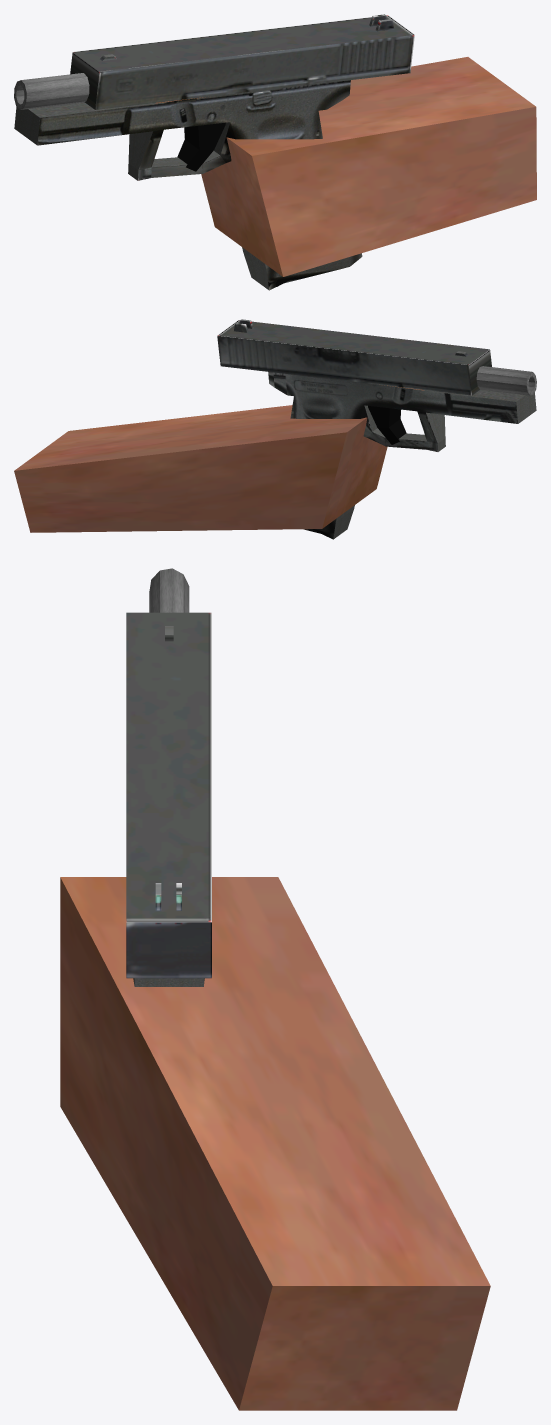
Rendered from pistol_000008.obj.
3 renders of one model, top to bottom at view 1: azimuth 30°, elevation 25°; view 2: azimuth 150°, elevation 25°; view 3: azimuth 270°, elevation 25°, orthographic. The views are drawn at different scales.
Parts seen in each view (by area): view 1: Cube, Cube.001, Cube.003; view 2: Cube, Cube.001, Cube.003; view 3: Cube, Cube.001.
Part boxes in pixels (<box>): Cube: <box>14,57,536,290</box>; Cube.001: <box>70,14,414,109</box>; Cube.003: <box>177,122,225,171</box>; Cube: <box>14,366,536,539</box>; Cube.001: <box>217,319,491,395</box>; Cube.003: <box>368,406,406,444</box>; Cube: <box>60,568,490,1410</box>; Cube.001: <box>126,612,211,978</box>.
Bounding box in the file's own units: 1.7 × 0.7972 × 0.7214.
